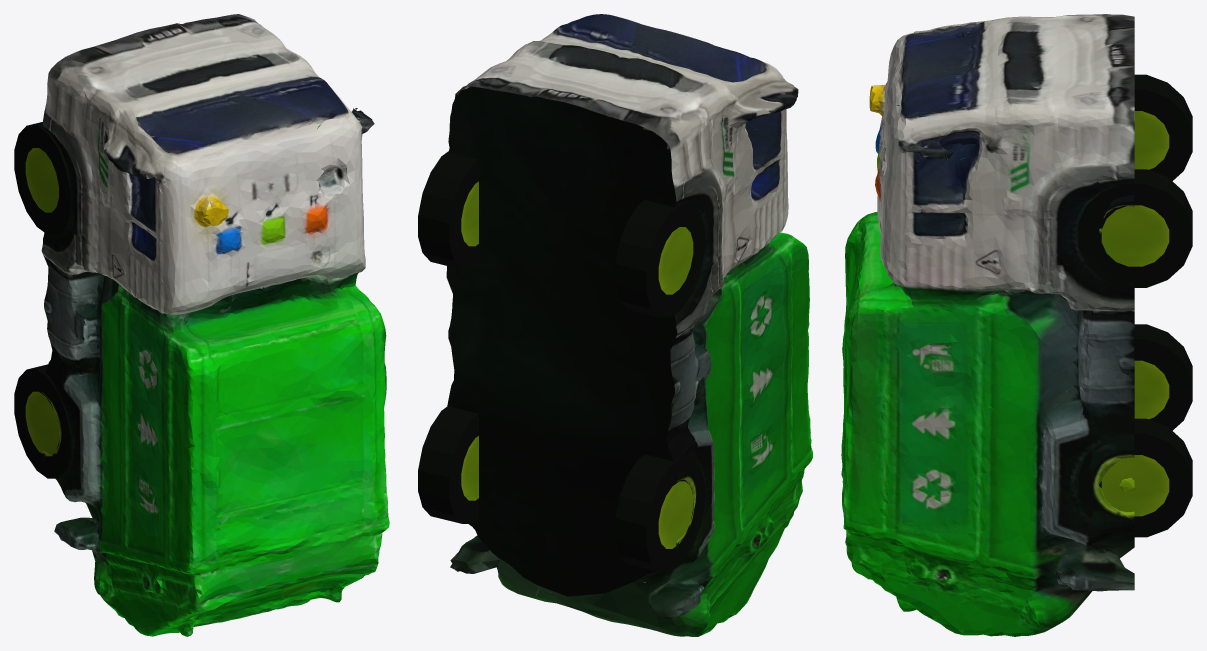
3 renders of one model, left to right at view 1: azimuth 30°, elevation 25°; view 2: azimuth 150°, elevation 25°; view 3: azimuth 270°, elevation 25°, orthographic. The views are drawn at different scales.
Parts seen in each view (by area): view 1: truck; view 2: truck; view 3: truck.
Boxes of the visible parts, x1,y1,x2,y2 form: truck: [14, 14, 389, 636]; truck: [418, 14, 812, 636]; truck: [841, 14, 1192, 636].
Bounding box in the file's own units: 0.0897 × 0.1859 × 0.1084.
1 material, 1 textured.
